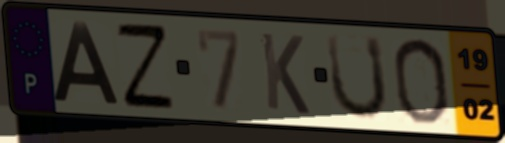7: (193, 27, 244, 113)
A: (49, 19, 122, 106)
K: (257, 29, 312, 118)
O: (390, 35, 451, 127)
U: (324, 31, 391, 122)
Z: (113, 21, 177, 111)
